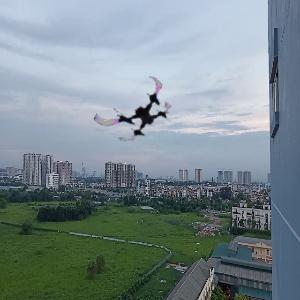drone: (104, 74, 179, 149)
